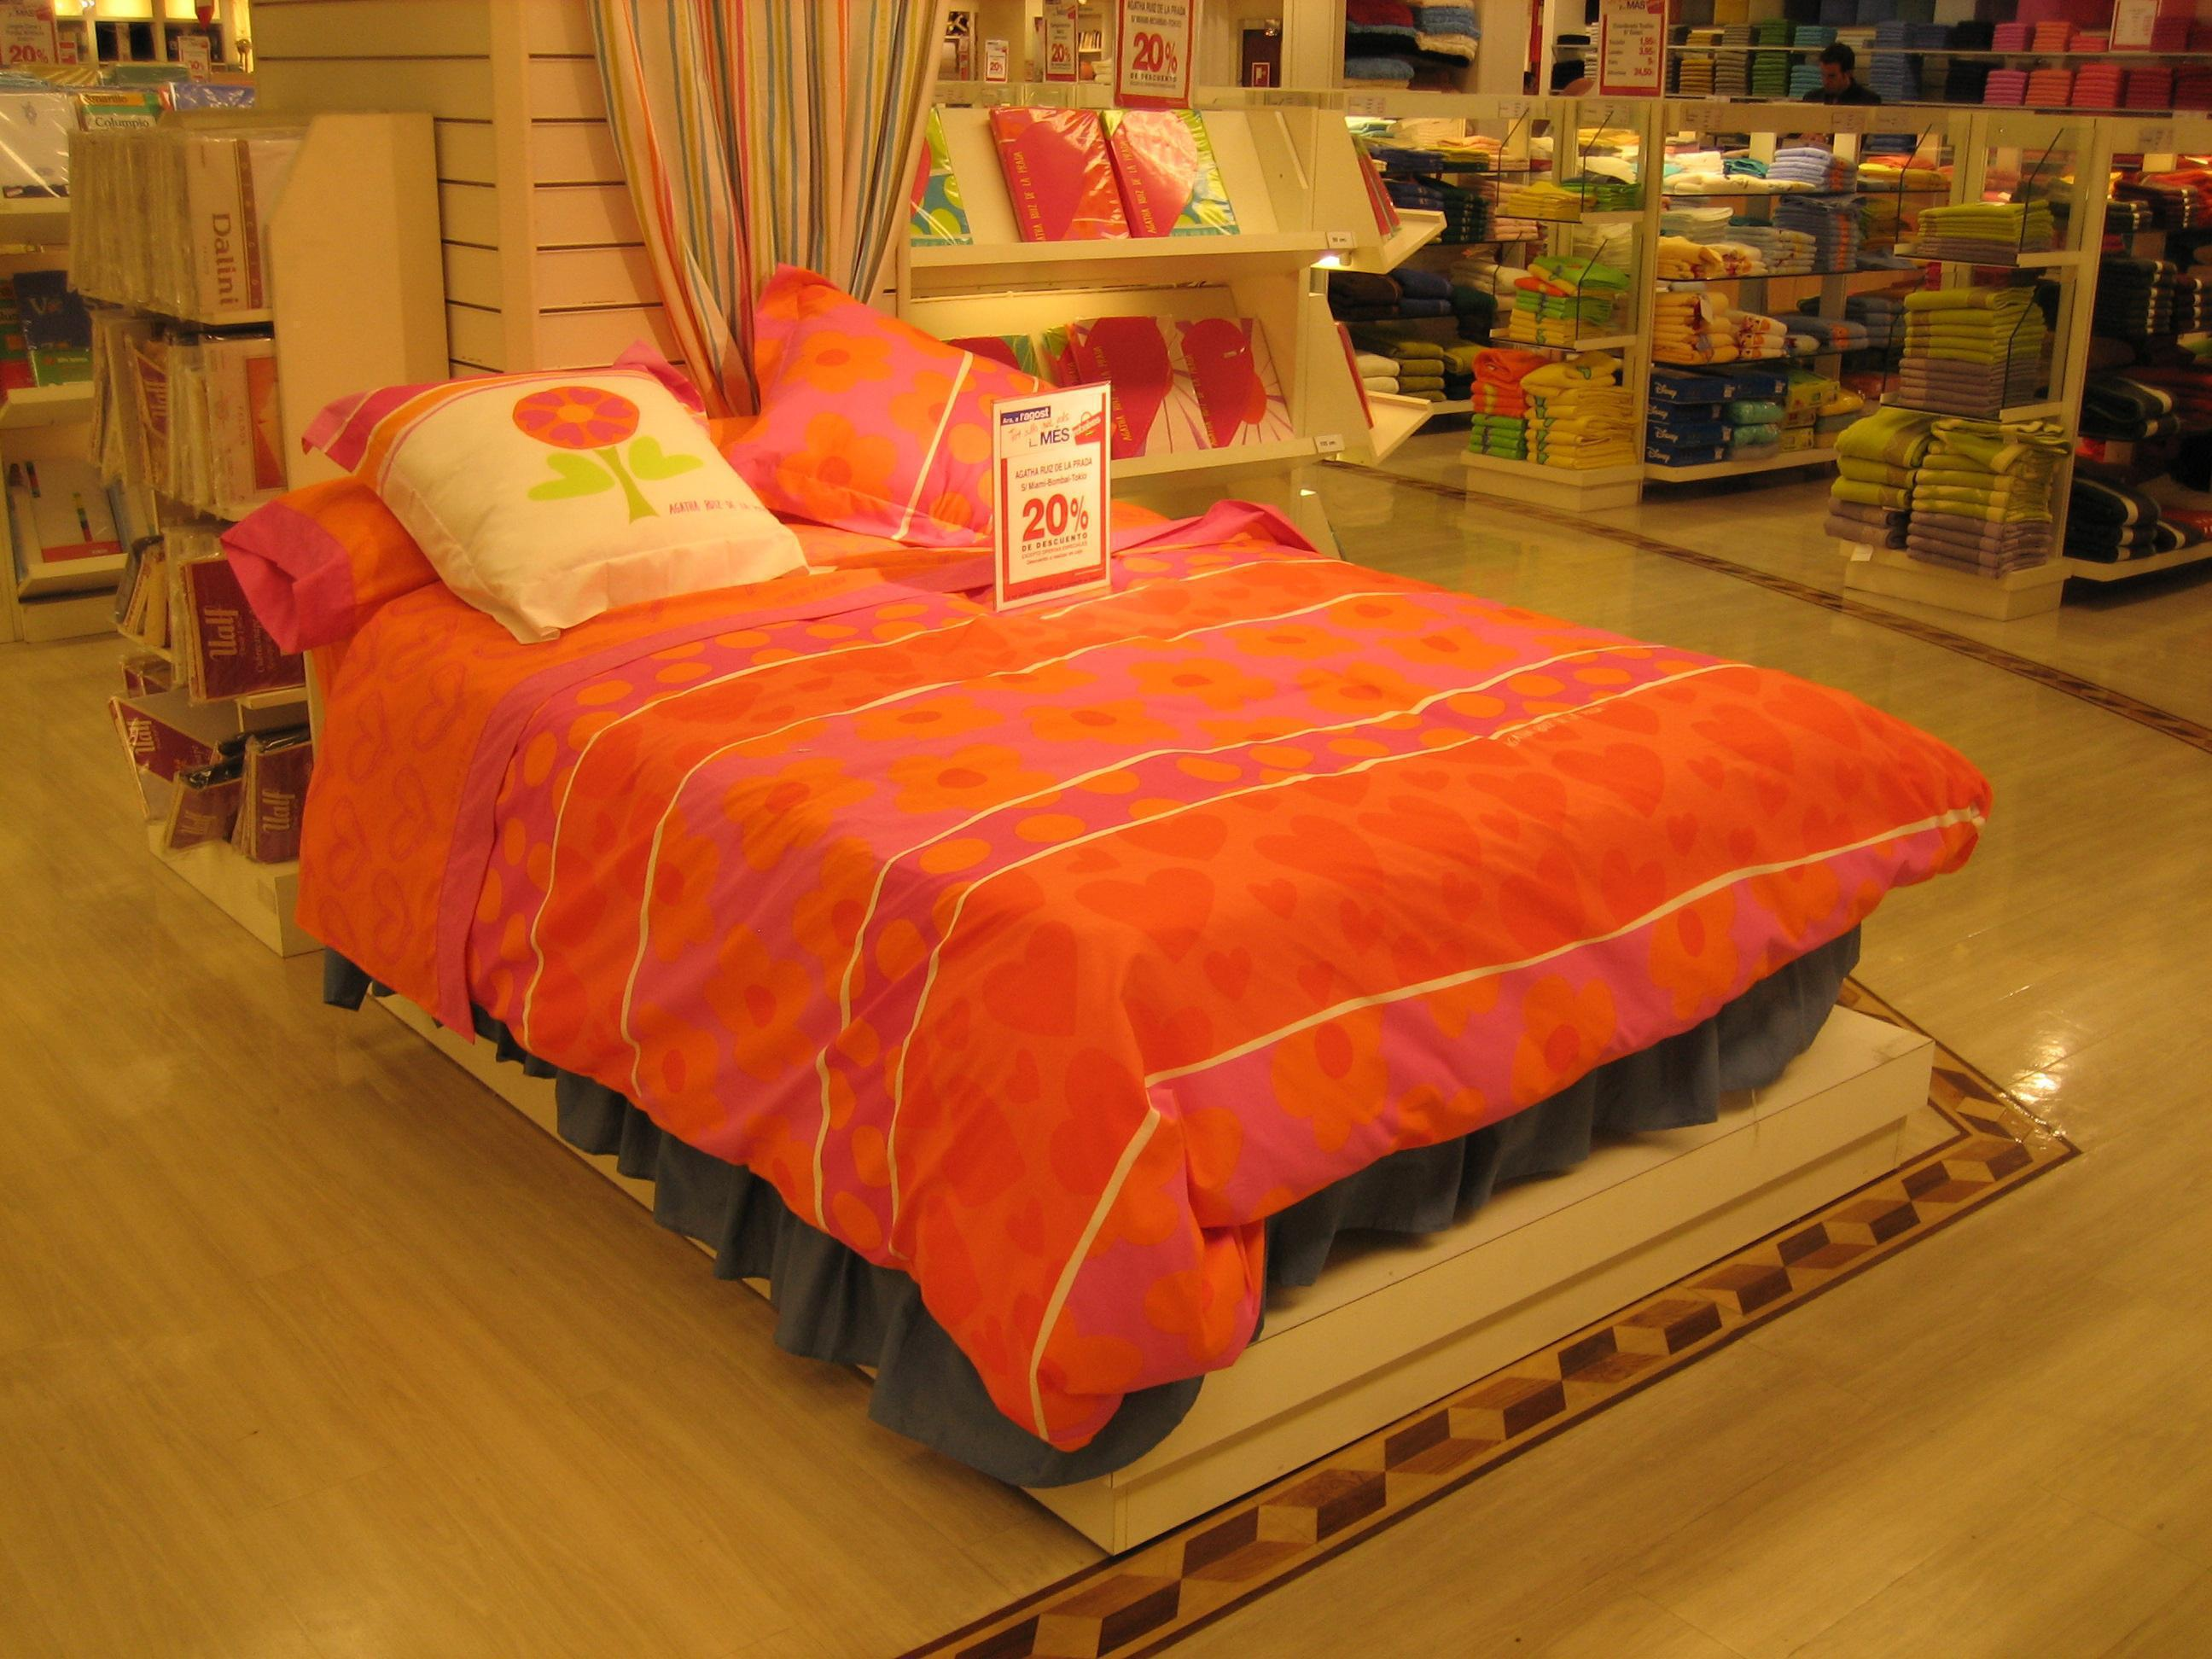Cama: (301, 383, 1932, 1359)
